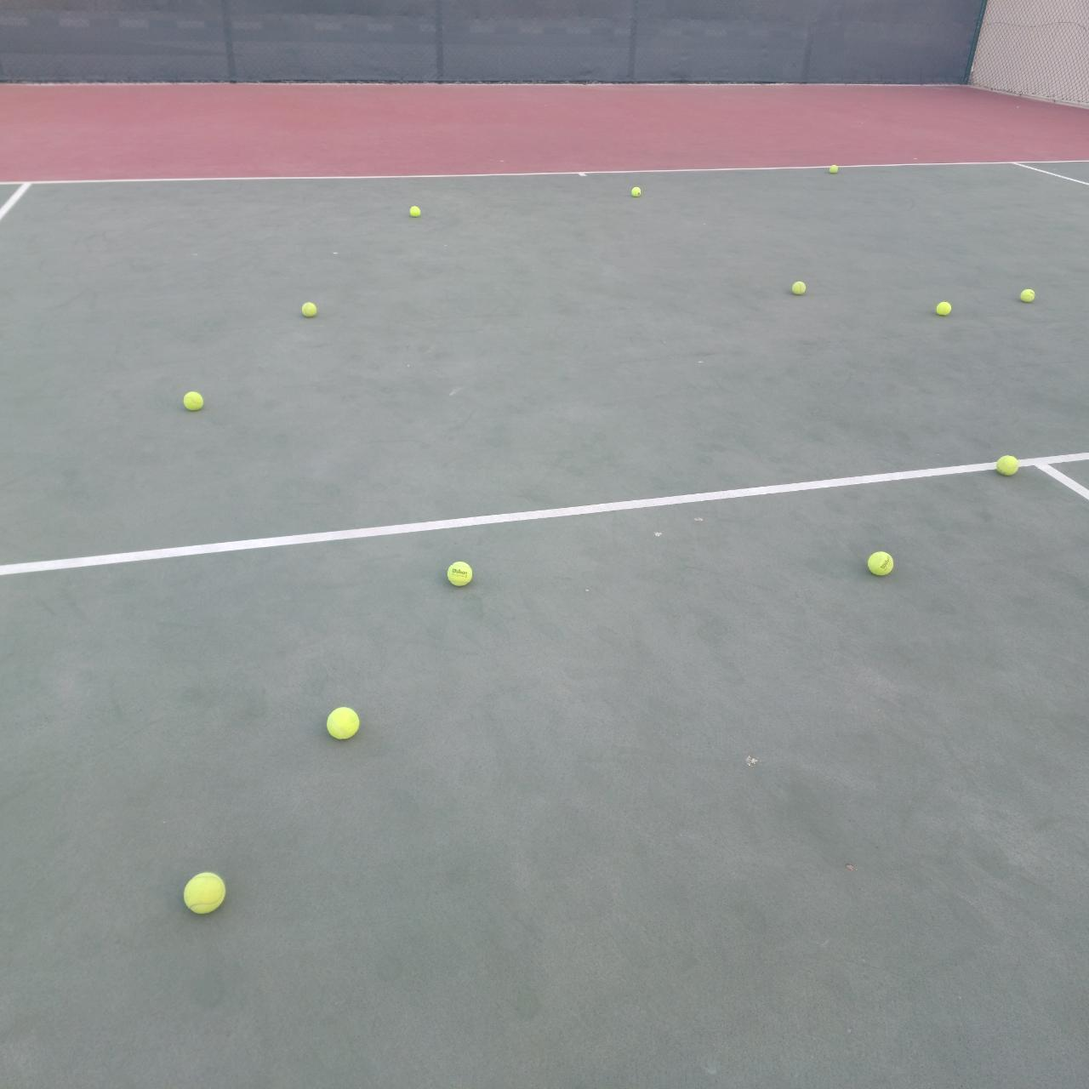tennis-ball: (181, 869, 226, 915), (324, 704, 360, 740), (446, 558, 473, 587), (865, 549, 894, 576), (181, 388, 204, 411), (995, 453, 1018, 476), (935, 301, 952, 315), (301, 301, 316, 316), (791, 280, 806, 294), (1020, 288, 1034, 303), (409, 205, 421, 218), (631, 187, 641, 197), (829, 165, 838, 174)
